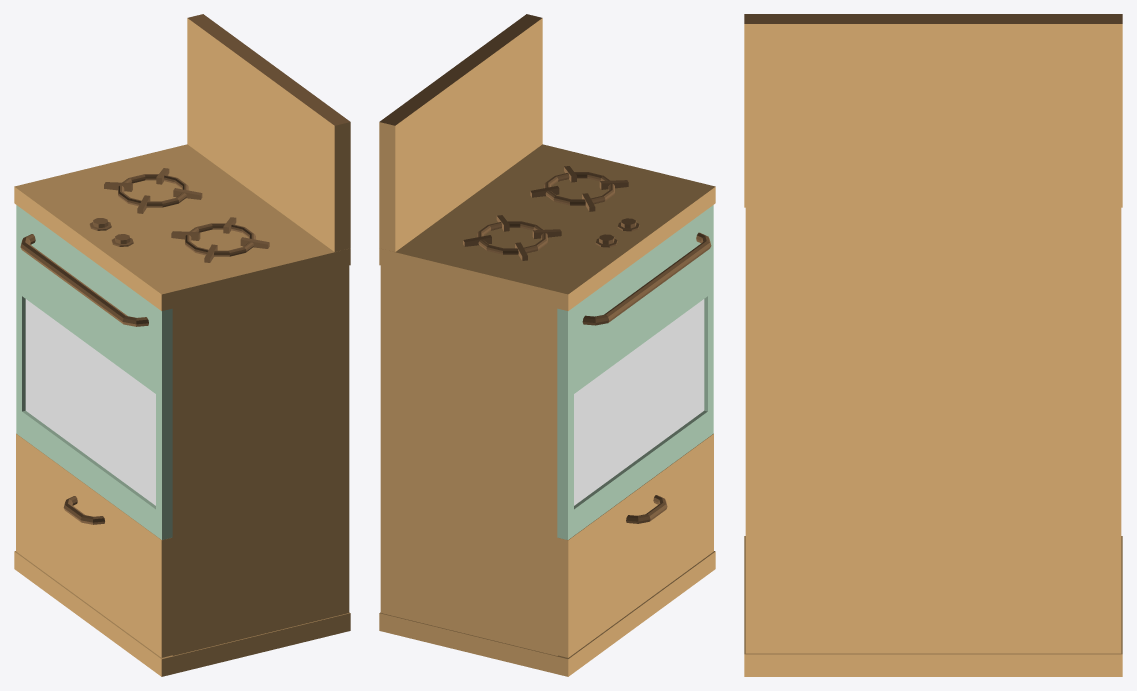
Rendered from Gas Stove.fbx.
3 views of the same model, side by side, from view 1: azimuth 30°, elevation 25°; view 2: azimuth 150°, elevation 25°; view 3: azimuth 270°, elevation 25° (orthographic). The views are drawn at different scales.
Parts seen in each view (by area): view 1: Node 0, Node 2, Node 1; view 2: Node 0, Node 2, Node 1; view 3: Node 0.
Part boxes in pixels (left/top/right/bottom): Node 0: left=14, top=14, right=350, bottom=676; Node 2: left=16, top=205, right=172, bottom=539; Node 1: left=16, top=433, right=172, bottom=657; Node 0: left=379, top=14, right=715, bottom=676; Node 2: left=557, top=205, right=713, bottom=539; Node 1: left=557, top=433, right=713, bottom=657; Node 0: left=744, top=14, right=1122, bottom=676.
Size of the model in its own units: 0.5775 by 1.36 by 0.7148.
